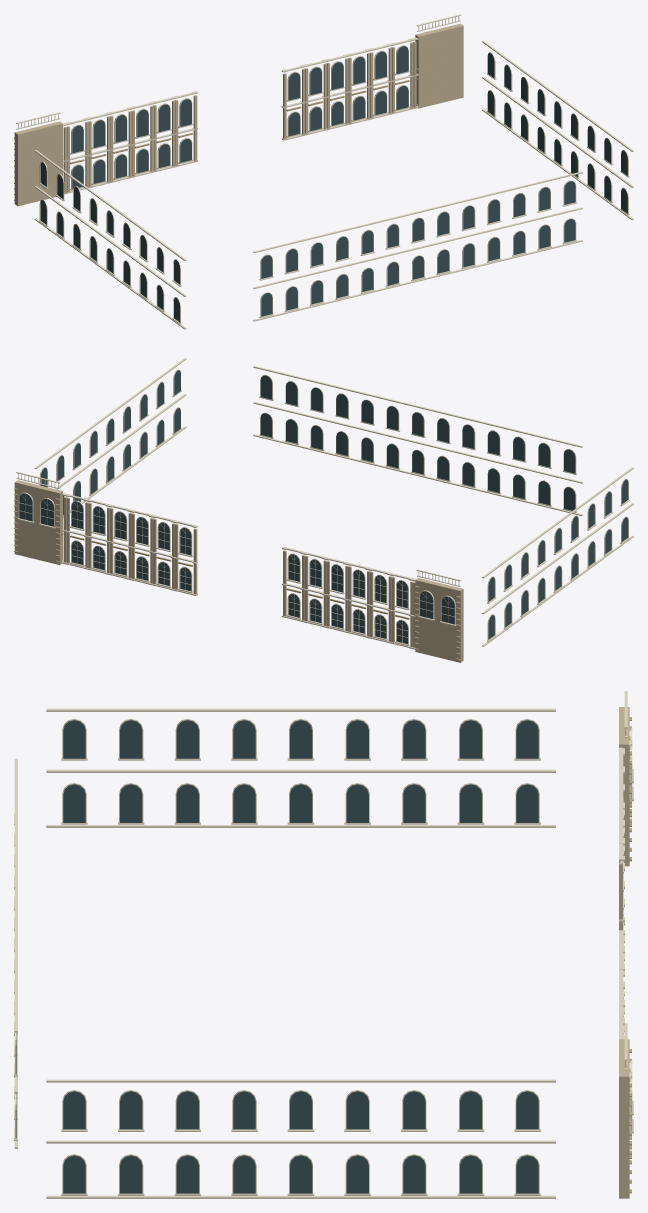
The model's file is KOL_T1_INDIAN_MUSEUM__05_FacadeDetails.fbx.
The picture shows the model from 3 angles, top to bottom: view 1: azimuth 30°, elevation 25°; view 2: azimuth 150°, elevation 25°; view 3: azimuth 270°, elevation 25°; orthographic projection. The views are drawn at different scales.
Parts seen in each view (by area): view 1: KOL_T1_INDIAN_MUSEUM__05_FacadeDetails__KOL_T1_B4_Glass_00, KOL_T1_INDIAN_MUSEUM__05_FacadeDetails__KOL_T1_B4_MuseumTrim (×2), KOL_T1_INDIAN_MUSEUM__05_FacadeDetails__KOL_T1_B4_MuseumWall, KOL_T1_INDIAN_MUSEUM__05_FacadeDetails__KOL_T1_B4_MuseumBand; view 2: KOL_T1_INDIAN_MUSEUM__05_FacadeDetails__KOL_T1_B4_Glass_00, KOL_T1_INDIAN_MUSEUM__05_FacadeDetails__KOL_T1_B4_MuseumTrim (×2), KOL_T1_INDIAN_MUSEUM__05_FacadeDetails__KOL_T1_B4_MuseumWall, KOL_T1_INDIAN_MUSEUM__05_FacadeDetails__KOL_T1_B4_MuseumBand; view 3: KOL_T1_INDIAN_MUSEUM__05_FacadeDetails__KOL_T1_B4_Glass_00, KOL_T1_INDIAN_MUSEUM__05_FacadeDetails__KOL_T1_B4_MuseumTrim (×2), KOL_T1_INDIAN_MUSEUM__05_FacadeDetails__KOL_T1_B4_MuseumWall.
Boxes of the visible parts, x1,y1,x2,y2 form: KOL_T1_INDIAN_MUSEUM__05_FacadeDetails__KOL_T1_B4_Glass_00: (40,46,627,322); KOL_T1_INDIAN_MUSEUM__05_FacadeDetails__KOL_T1_B4_MuseumTrim (×2): (16,14,633,329); KOL_T1_INDIAN_MUSEUM__05_FacadeDetails__KOL_T1_B4_MuseumWall: (14,23,463,206); KOL_T1_INDIAN_MUSEUM__05_FacadeDetails__KOL_T1_B4_MuseumBand: (14,40,417,200); KOL_T1_INDIAN_MUSEUM__05_FacadeDetails__KOL_T1_B4_Glass_00: (19,370,627,644); KOL_T1_INDIAN_MUSEUM__05_FacadeDetails__KOL_T1_B4_MuseumTrim (×2): (16,358,633,649); KOL_T1_INDIAN_MUSEUM__05_FacadeDetails__KOL_T1_B4_MuseumWall: (14,480,463,662); KOL_T1_INDIAN_MUSEUM__05_FacadeDetails__KOL_T1_B4_MuseumBand: (14,488,460,660); KOL_T1_INDIAN_MUSEUM__05_FacadeDetails__KOL_T1_B4_Glass_00: (16,720,538,1193); KOL_T1_INDIAN_MUSEUM__05_FacadeDetails__KOL_T1_B4_MuseumTrim (×2): (14,691,633,1198); KOL_T1_INDIAN_MUSEUM__05_FacadeDetails__KOL_T1_B4_MuseumWall: (619,707,629,1198).
Bounding box in the file's own units: 249 × 43.18 × 175.
4 materials, 1 textured.
